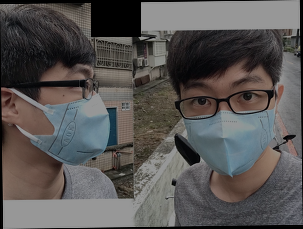with_mask: (180, 72, 278, 177), (30, 65, 114, 165)
